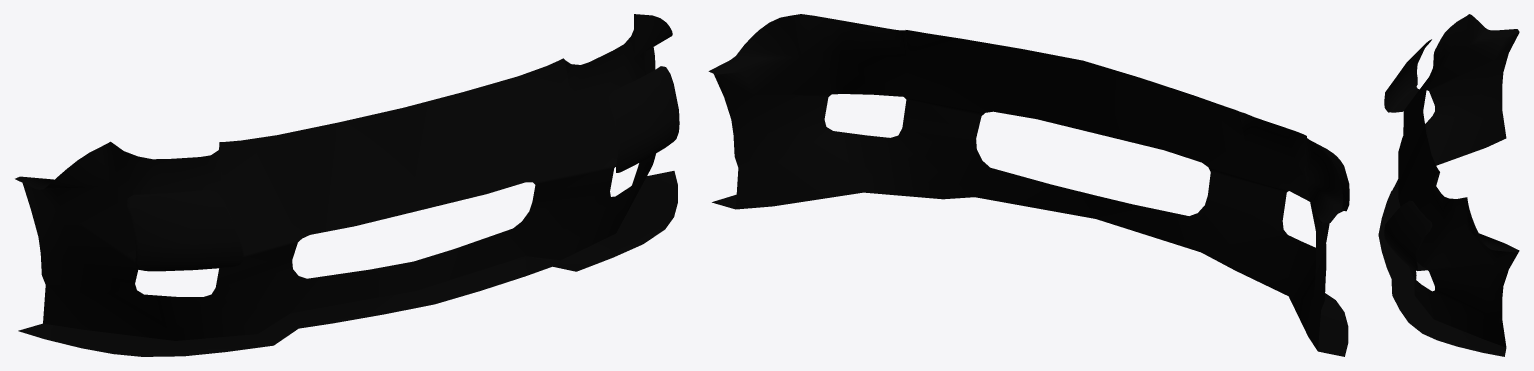
Rendered from RX7_FB02_Trim.fbx.
3 renders of one model, left to right at view 1: azimuth 30°, elevation 25°; view 2: azimuth 150°, elevation 25°; view 3: azimuth 270°, elevation 25°, orthographic. The views are drawn at different scales.
Visible parts, largest first — view 1: RX7_FB02_Trim; view 2: RX7_FB02_Trim; view 3: RX7_FB02_Trim.
Part boxes in pixels (x1,y1,x2,y2): RX7_FB02_Trim: (15, 14, 679, 356); RX7_FB02_Trim: (708, 14, 1349, 356); RX7_FB02_Trim: (1378, 14, 1519, 356).
Bounding box in the file's own units: 175 × 49.22 × 45.73.
